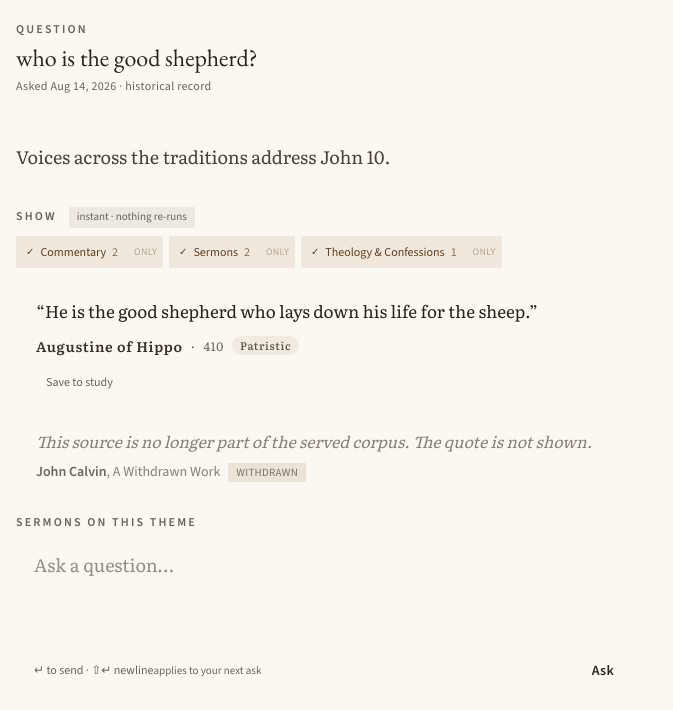
Test: §4.7 Show filter + stored-thread rendering (variant A) › hiding every register states so — never a silently blank pane
The width and height of the screenshot is (673, 710).
Click the button "✓ Commentary 2": (72, 252) [16,236,128,268]
(page scrolled)
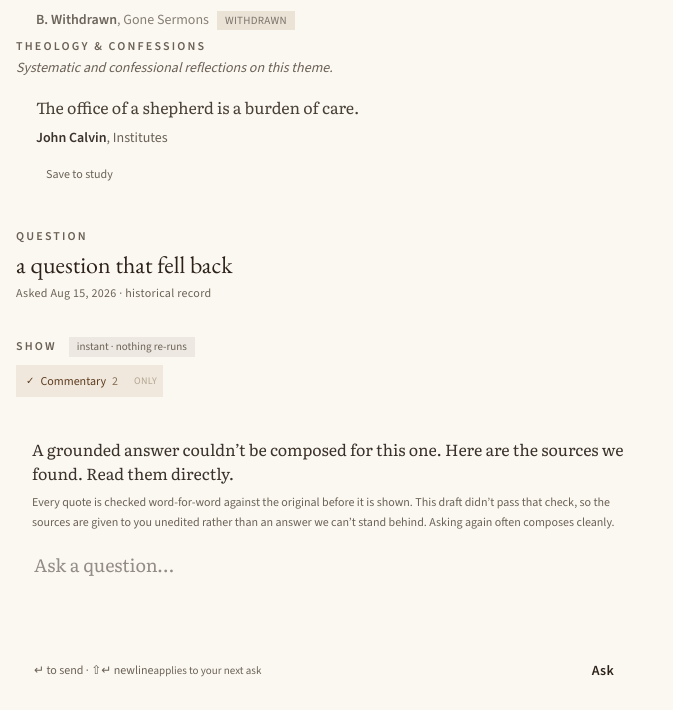
Click the button "✓ Commentary 2": (72, 381) [16,365,128,397]
(page scrolled)
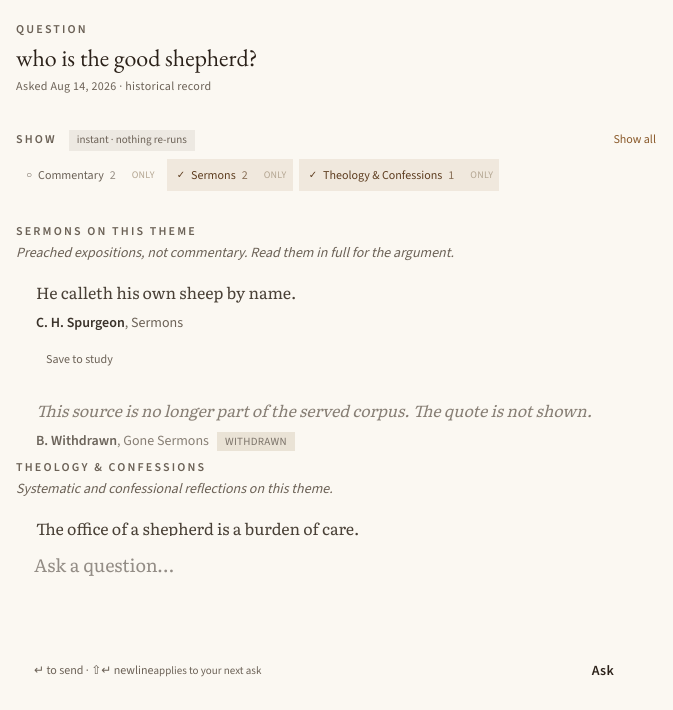
Click the button "✓ Sermons 2": (212, 174) [167,158,258,190]
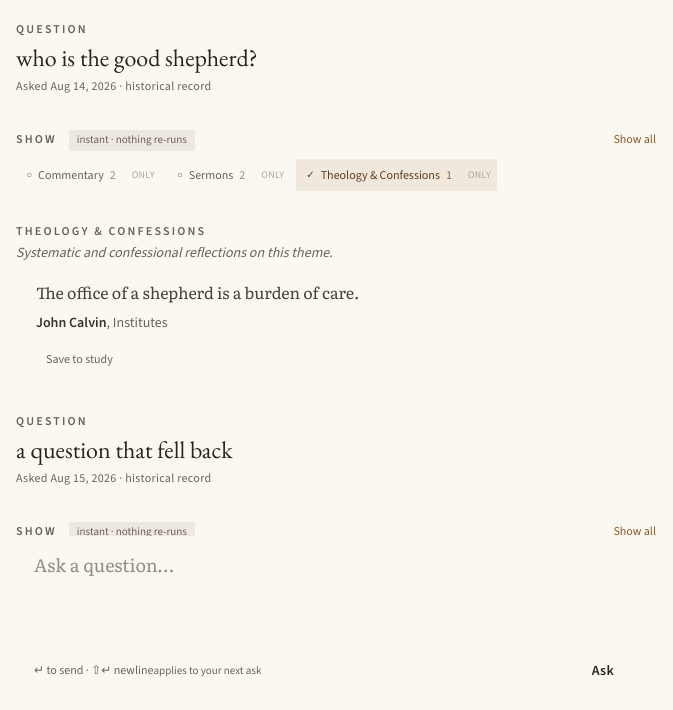
Click the button "✓ Theology & Confessions 1": (379, 174) [296,158,462,190]
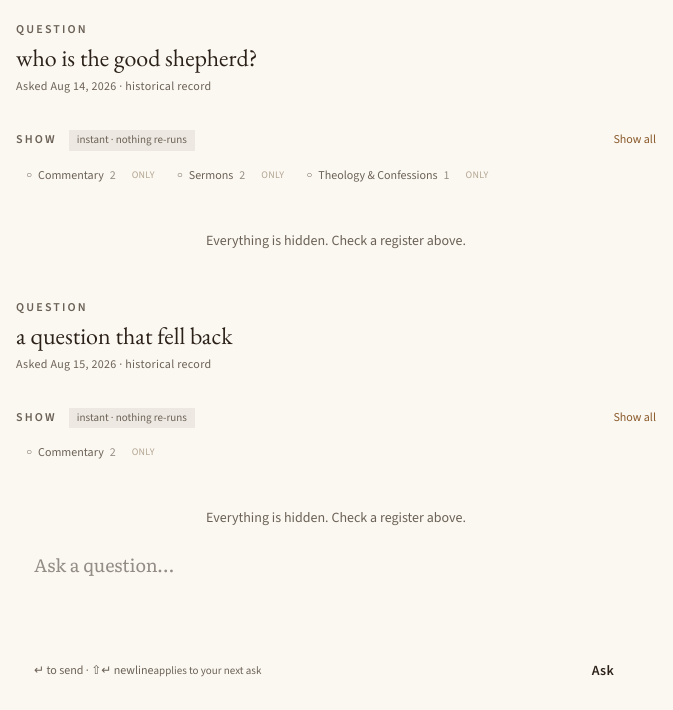
Check: the text "Everything is hidden. Check a register above." below "Aug 14, 2026" is shown, box [206,230,466,250]
